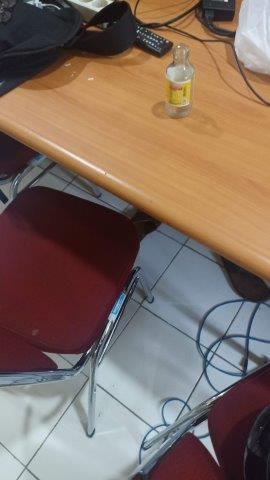botolkaca: (165, 42, 192, 119)
